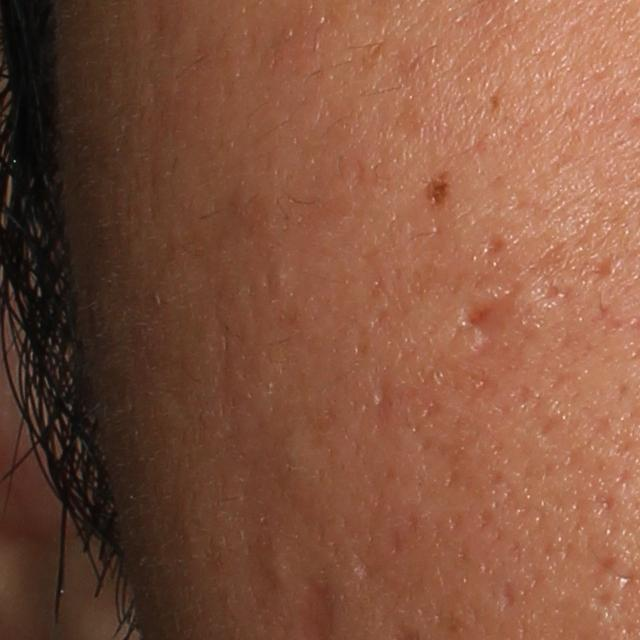atrophic_scar: (463, 283, 524, 332), (347, 530, 388, 591), (478, 230, 508, 264), (494, 583, 522, 610)
nevus: (424, 172, 452, 214)
